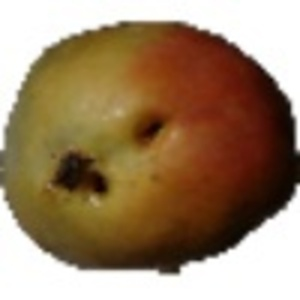mamão: (2, 14, 296, 284)
